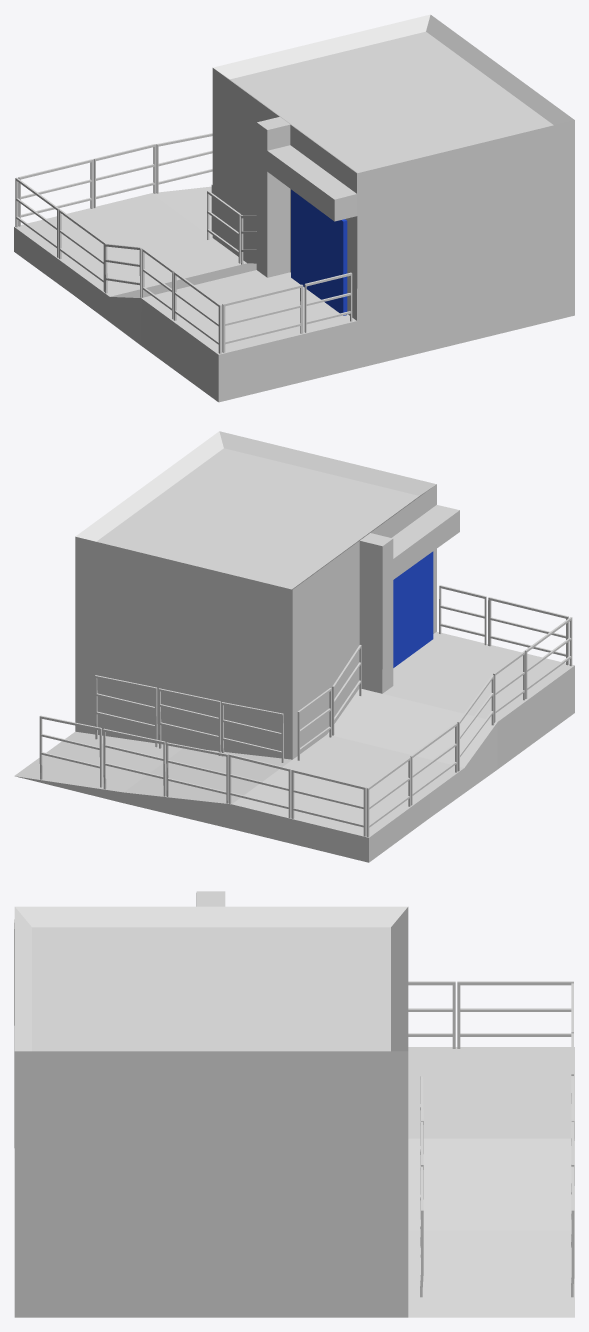
File: bloque8.fbx
3 renders of one model, top to bottom at view 1: azimuth 30°, elevation 25°; view 2: azimuth 150°, elevation 25°; view 3: azimuth 270°, elevation 25°, orthographic. The views are drawn at different scales.
Parts seen in each view (by area): view 1: bloque 8, barandal; view 2: bloque 8, barandal; view 3: bloque 8, barandal.
Part boxes in pixels (bbox=[...]): bloque 8: bbox=[14, 14, 574, 402]; barandal: bbox=[15, 133, 352, 353]; bloque 8: bbox=[14, 431, 574, 862]; barandal: bbox=[39, 585, 572, 837]; bloque 8: bbox=[14, 891, 574, 1317]; barandal: bbox=[408, 981, 574, 1297].
Size of the model in its own units: 782 by 410 by 782.
